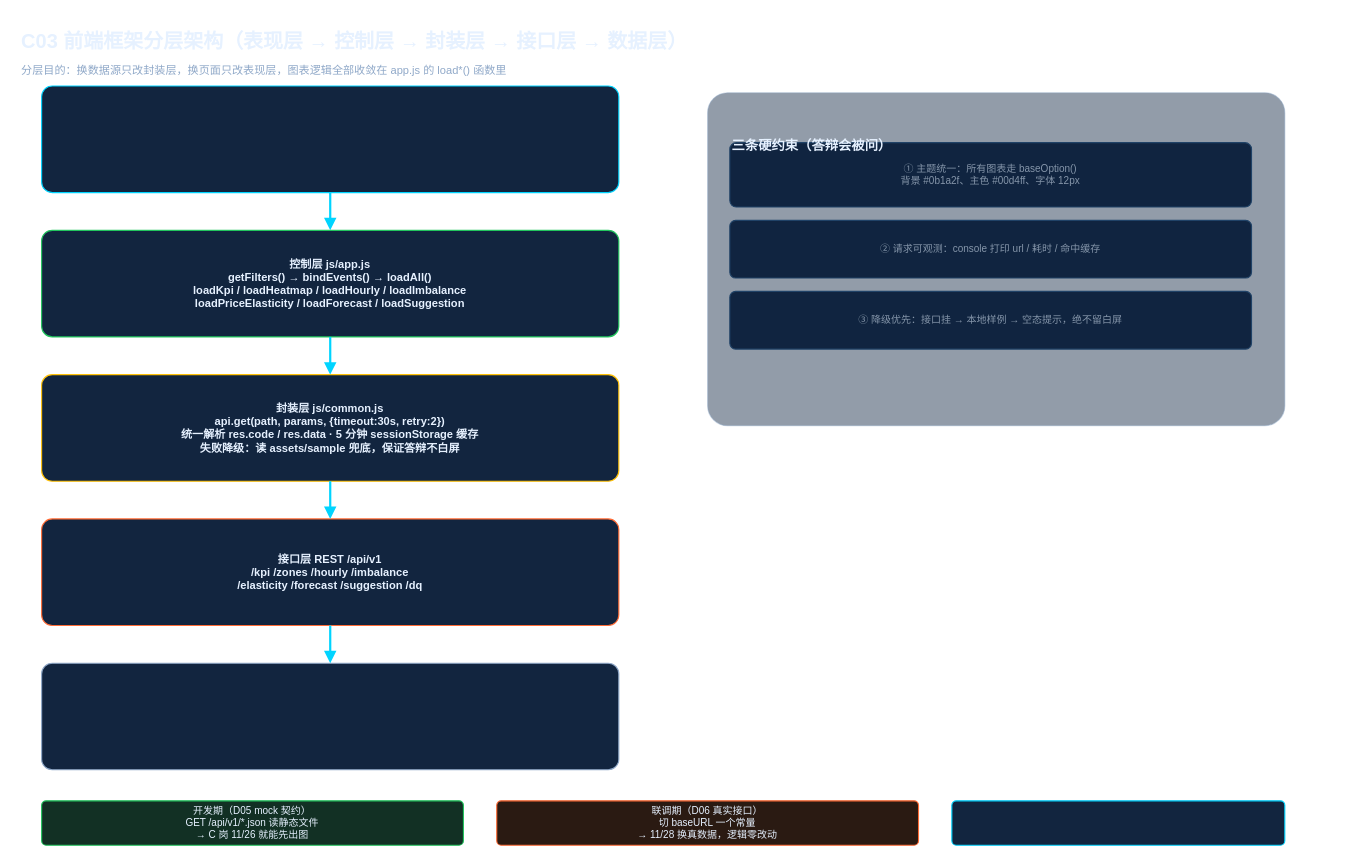
Some shapes in this 1348 by 865 pixel diagram are drawn without their labels. The box of each missing label's shape, as (x1, y1, x2, y2) in pixels:
数据层 MySQL ads_* 7 张 + insight_* 2 张 + dwd/dws 抽样 2 张 只读账号，禁止前端直连: (41, 662, 619, 770)
表现层 index.html + css 6 个大屏页面容器 · CSS 变量主题（#0b1a2f / #00d4ff） 统一卡片、栅格、字号阶梯: (41, 85, 619, 193)
验收期 RUNBOOK + 冒烟测试 → 一键起 MySQL / 前端: (951, 800, 1285, 845)
